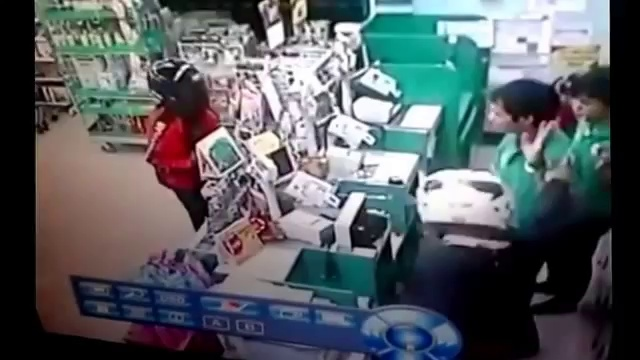helmet: (413, 160, 518, 242), (144, 53, 206, 106)
